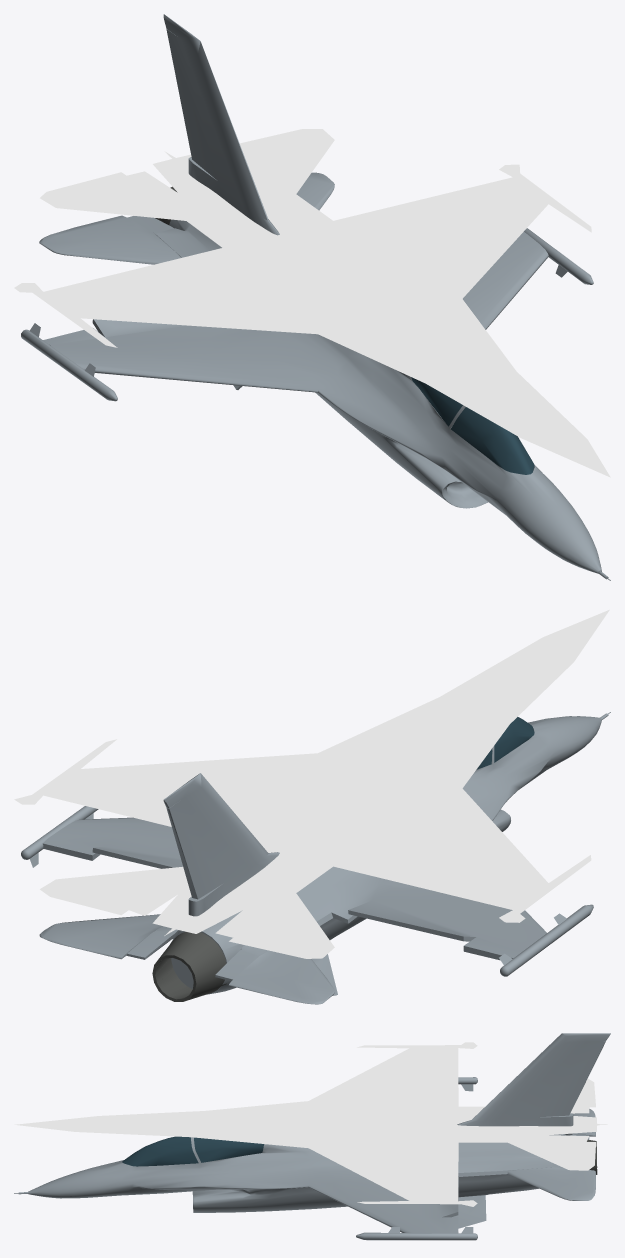
The picture shows the model from 3 angles, top to bottom: view 1: azimuth 30°, elevation 25°; view 2: azimuth 150°, elevation 25°; view 3: azimuth 270°, elevation 25°; orthographic projection. The views are drawn at different scales.
Visible parts, largest first — view 1: Silhouette, Airframe; view 2: Silhouette, Airframe; view 3: Airframe, Silhouette.
Part boxes in pixels (x1=…): Silhouette: x1=14, y1=129, x2=610, y2=477; Airframe: x1=21, y1=14, x2=610, y2=580; Silhouette: x1=14, y1=609, x2=609, y2=958; Airframe: x1=21, y1=712, x2=610, y2=1004; Airframe: x1=14, y1=1033, x2=610, y2=1240; Silhouette: x1=14, y1=1042, x2=607, y2=1206.
Size of the model in its own units: 0.5163 by 0.2673 by 0.79.
